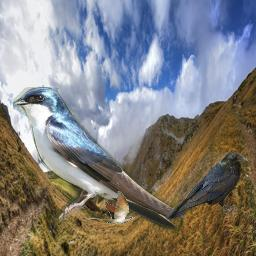Crow: (165, 152, 250, 220)
Cuckoo: (87, 191, 135, 224)
Swallow: (13, 87, 187, 231)
